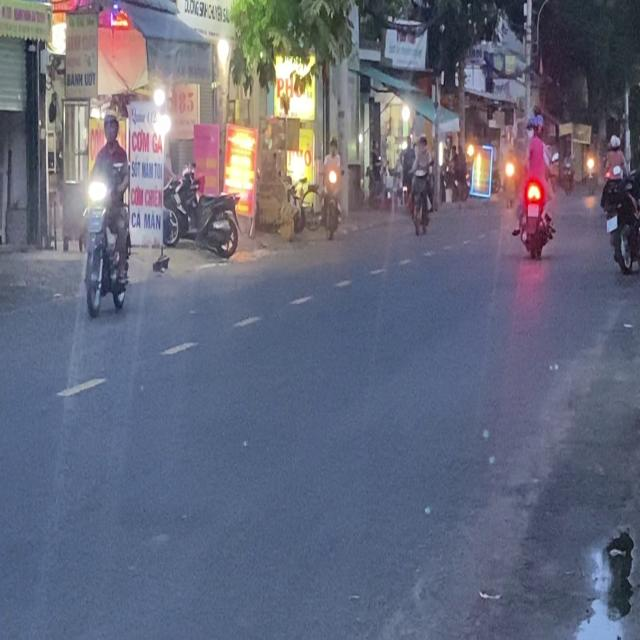helmet: (101, 110, 118, 142)
licenseplate: (79, 109, 132, 318)
